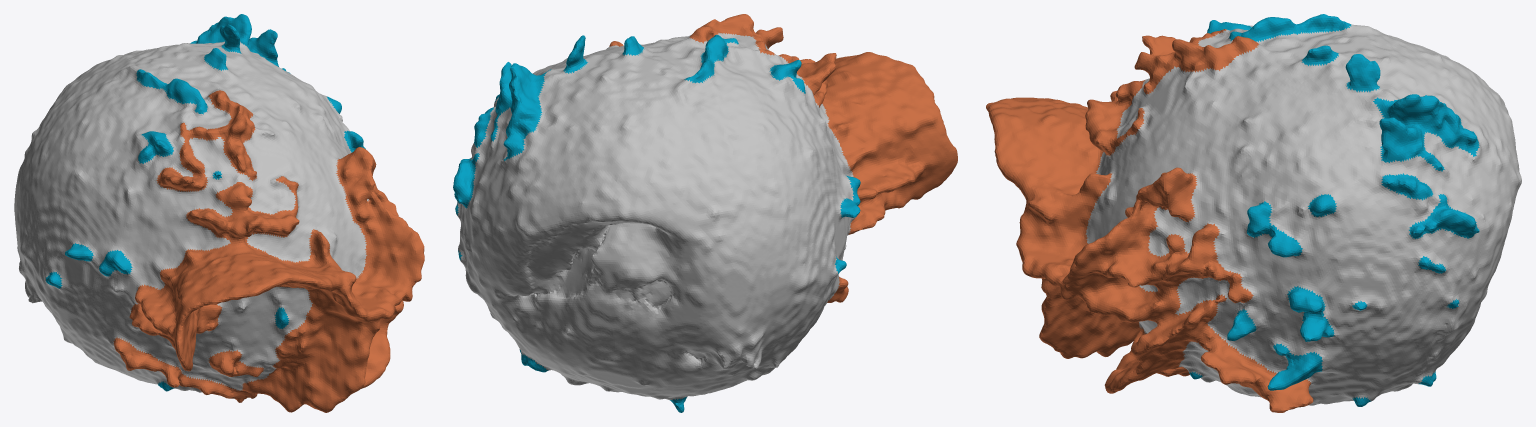
The picture shows the model from 3 angles, left to right: view 1: azimuth 30°, elevation 25°; view 2: azimuth 150°, elevation 25°; view 3: azimuth 270°, elevation 25°; orthographic projection. The views are drawn at different scales.
Size of the model in its own units: 146 by 138 by 180.
